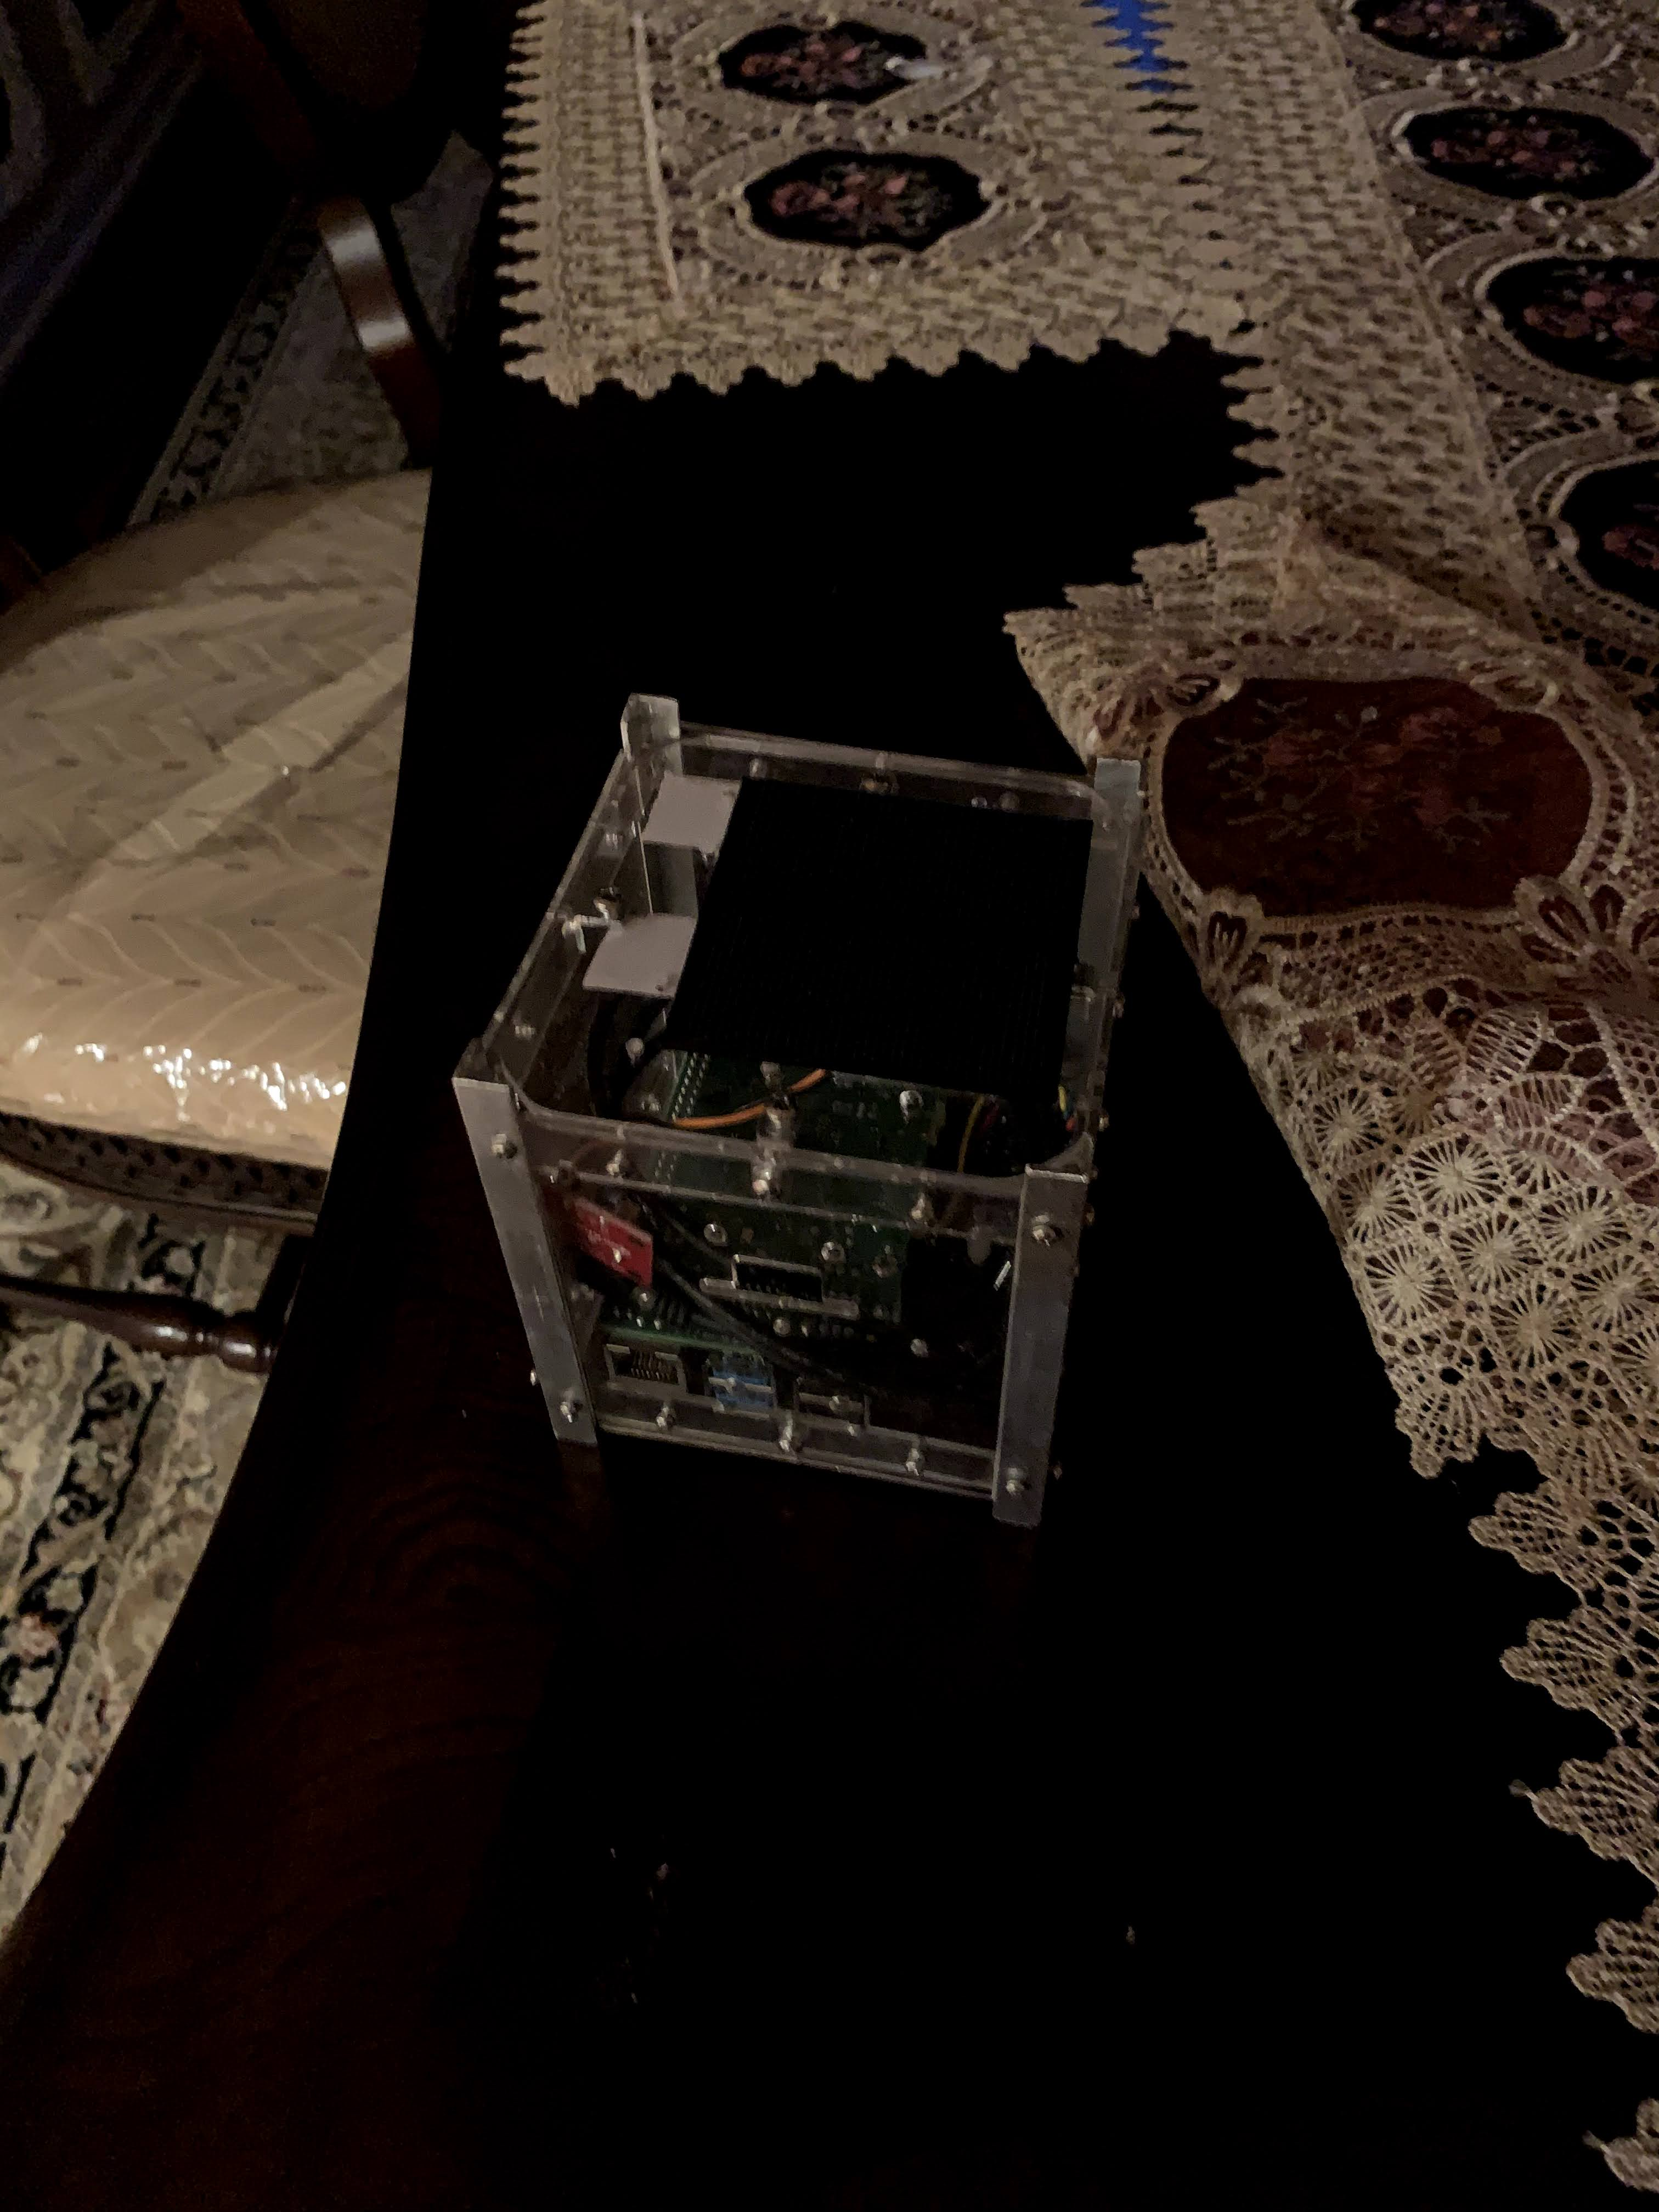Space-debris-cubesat: (441, 639, 1227, 1552)
